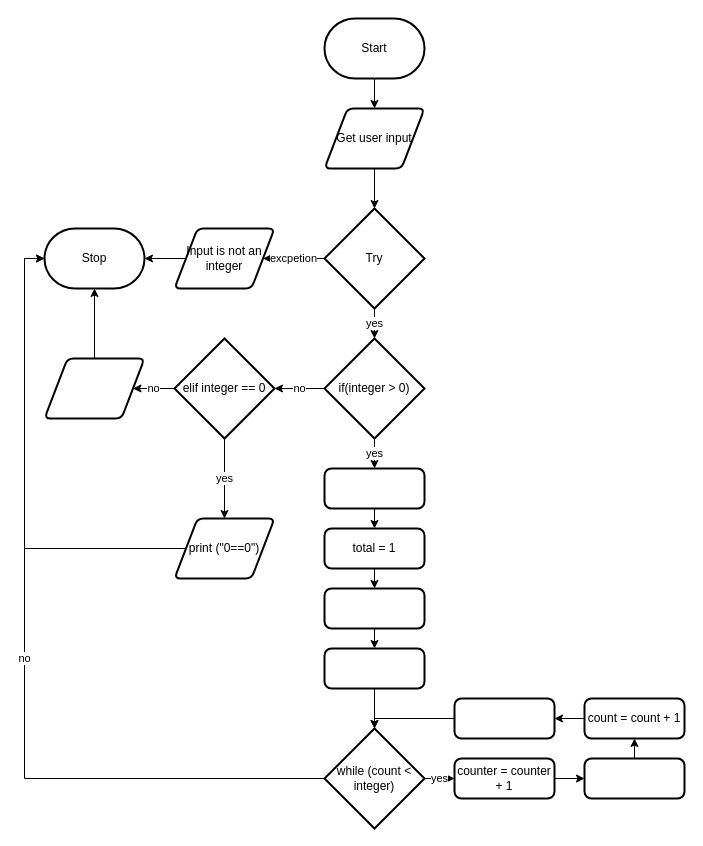
The diagram is 703 pixels wide and 846 high, and some of its shapes have lost their labels. Here are the shapes that lost their labels. From the top down, the box of each, then its label:
(43, 357, 145, 419): integer is negative
(323, 467, 425, 509): text = "1"
(323, 587, 425, 629): count = 1
(323, 647, 425, 689): counter = 1
(453, 697, 555, 739): text = text + " + " + str(counter)
(583, 757, 685, 799): total = total + counter
